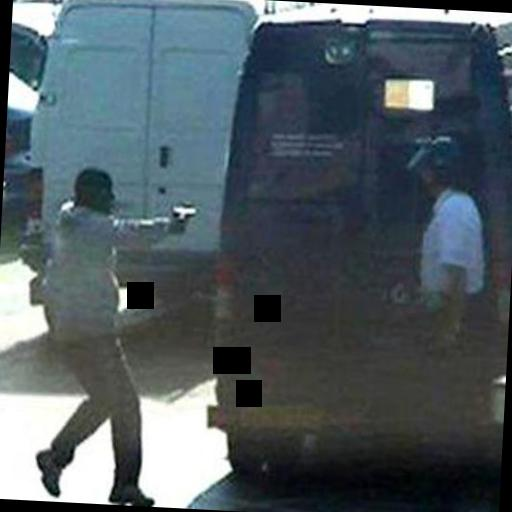Handgun: (165, 200, 201, 241)
